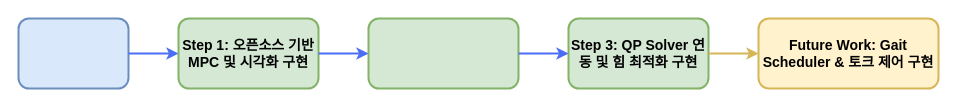
Image size: 956x106. Some labels were removed from this diagram. Here are the shapes that lost their labels. From the top down, the box of each, then its label:
(17, 17, 129, 89): 동역학 단순화 및 수학적 모델링
(367, 17, 519, 89): Step 2: MPC 수식 유도 및 QP 행렬 직접 설계
